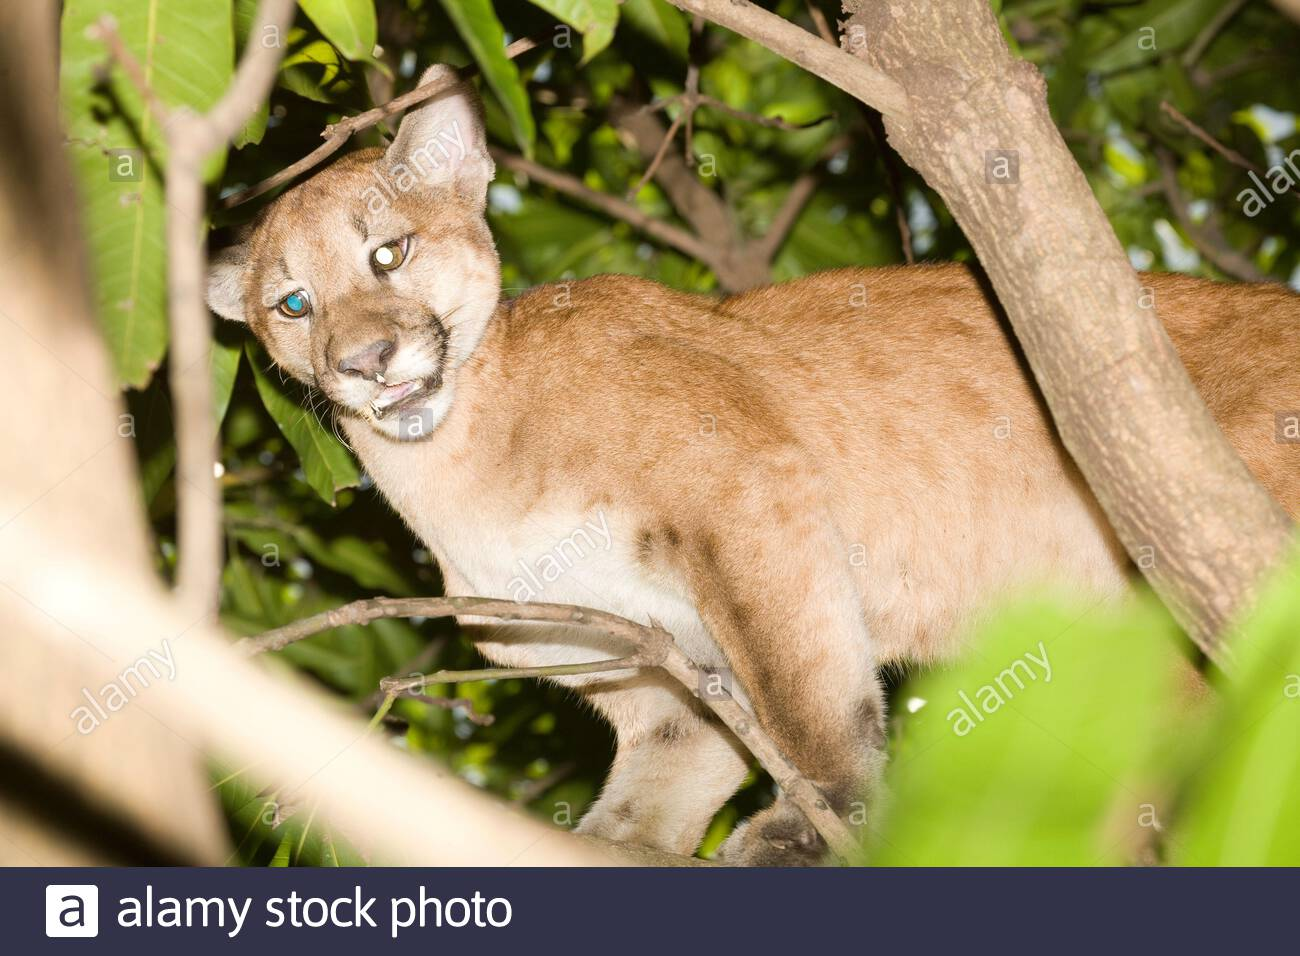OncaParda: (227, 65, 1289, 754)
